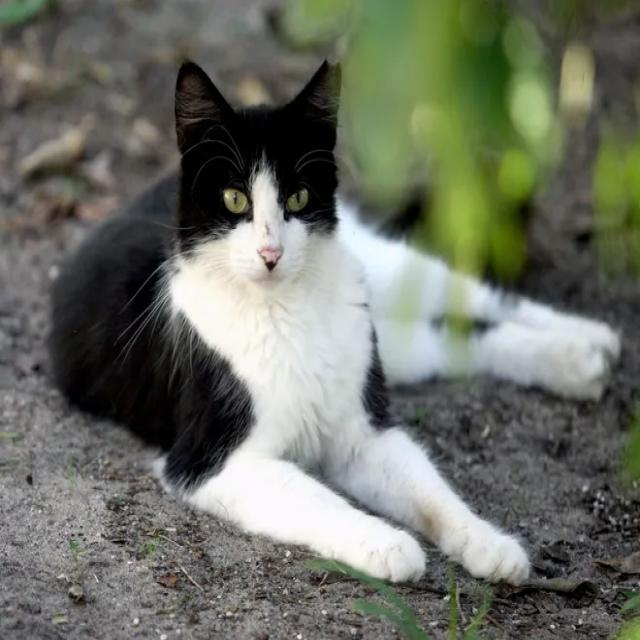cat: (50, 64, 619, 582)
